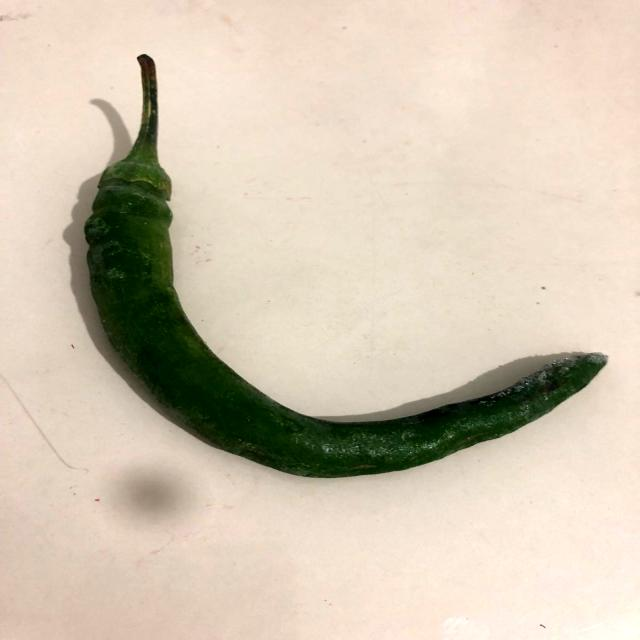green pepper: (86, 46, 614, 483)
